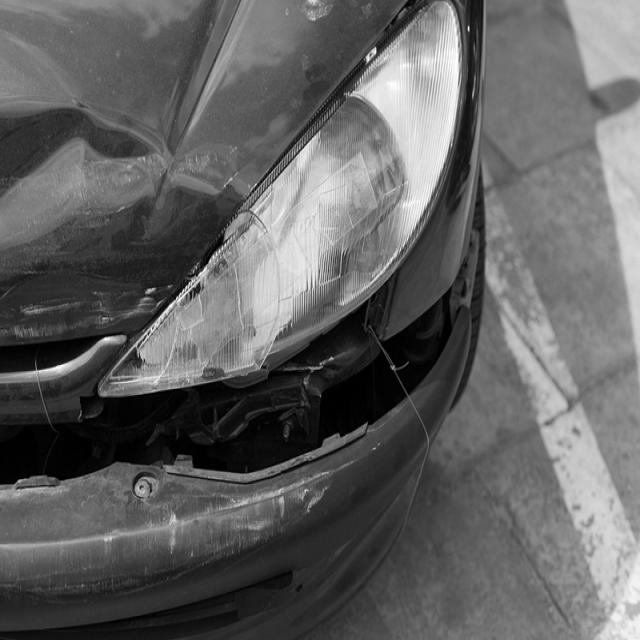crush: (0, 94, 469, 602)
